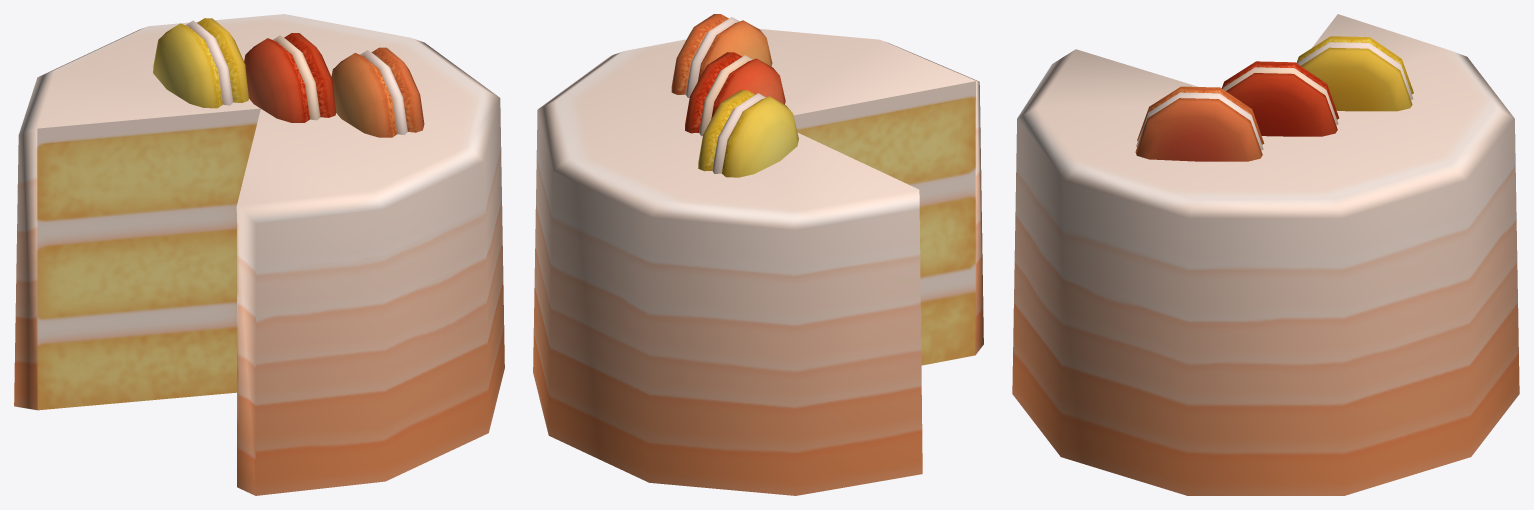
File: SunsetCake_Cut.fbx
The picture shows the model from 3 angles, left to right: view 1: azimuth 30°, elevation 25°; view 2: azimuth 150°, elevation 25°; view 3: azimuth 270°, elevation 25°; orthographic projection. The views are drawn at different scales.
Parts seen in each view (by area): view 1: SunsetCake_Cut; view 2: SunsetCake_Cut; view 3: SunsetCake_Cut.
Part boxes in pixels (x1,y1,x2,y2): SunsetCake_Cut: (14,14,504,495); SunsetCake_Cut: (533,14,983,495); SunsetCake_Cut: (1012,14,1519,495).
Bounding box in the file's own units: 76.8 × 60.79 × 81.5.
